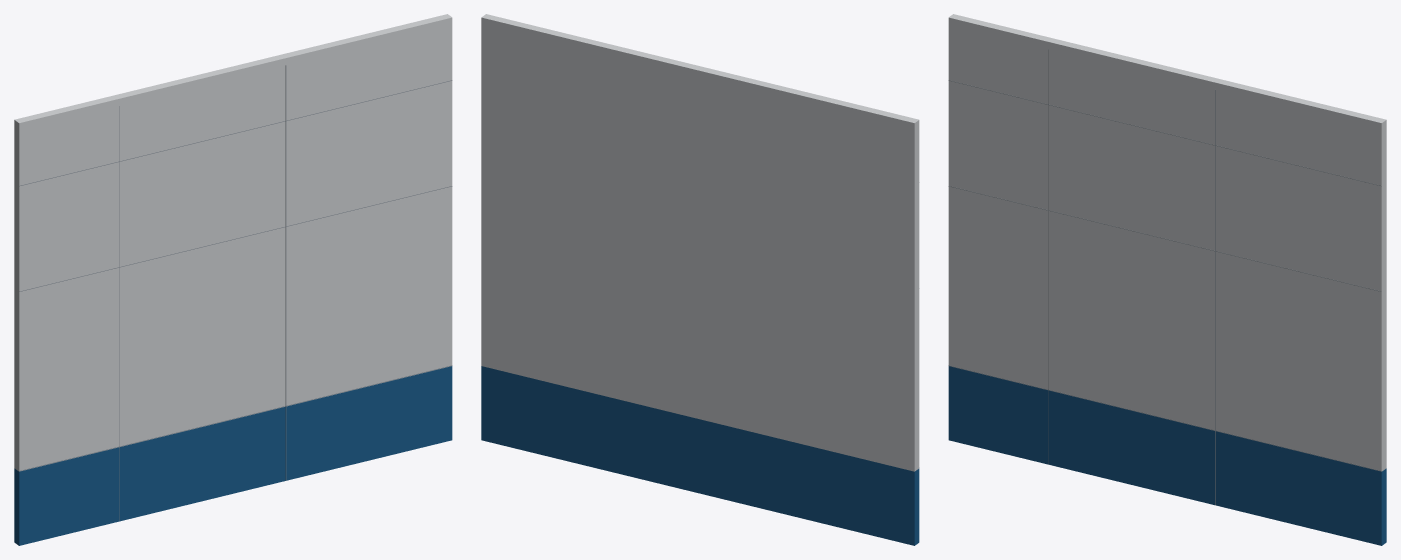
The model's file is SM_MPR3_Facade_08.fbx.
3 renders of one model, left to right at view 1: azimuth 30°, elevation 25°; view 2: azimuth 150°, elevation 25°; view 3: azimuth 330°, elevation 25°, orthographic.
Parts seen in each view (by area): view 1: SM_MPR3_Facade_08; view 2: SM_MPR3_Facade_08; view 3: SM_MPR3_Facade_08.
Boxes of the visible parts, left/top/right/bottom form: SM_MPR3_Facade_08: left=14, top=14, right=452, bottom=545; SM_MPR3_Facade_08: left=481, top=14, right=919, bottom=545; SM_MPR3_Facade_08: left=948, top=14, right=1386, bottom=545.
Bounding box in the file's own units: 1588 × 31.44 × 1480.
